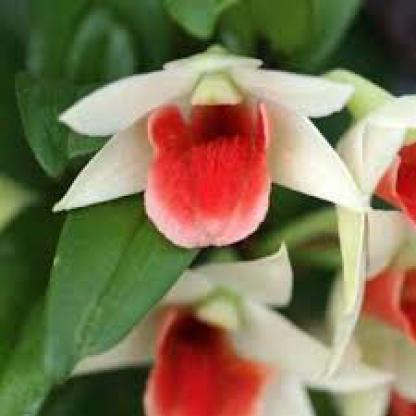ANGGREK: (68, 31, 397, 408)
